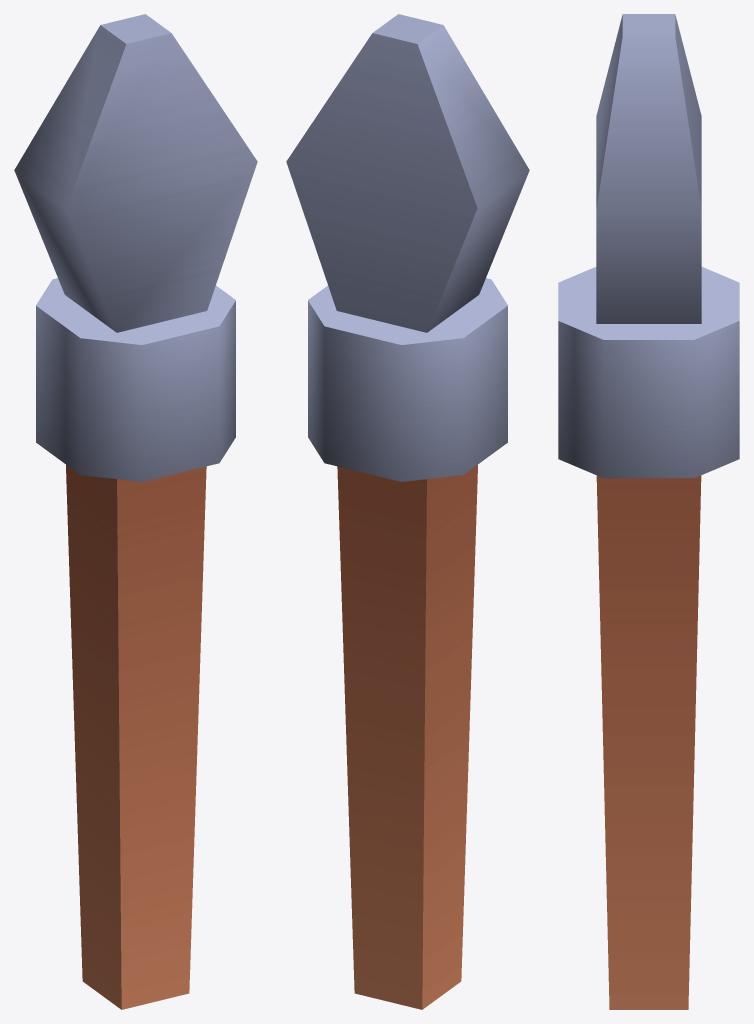
File: weapon-spear.obj
3 renders of one model, left to right at view 1: azimuth 30°, elevation 25°; view 2: azimuth 150°, elevation 25°; view 3: azimuth 270°, elevation 25°, orthographic.
Parts seen in each view (by area): view 1: weapon-spear; view 2: weapon-spear; view 3: weapon-spear.
Boxes of the visible parts, x1,y1,x2,y2 form: weapon-spear: (14, 14, 257, 1009); weapon-spear: (286, 14, 529, 1009); weapon-spear: (558, 14, 739, 1009).
Bounding box in the file's own units: 0.1463 × 0.7 × 0.119.
Materials: 1 (1 with a texture image).
